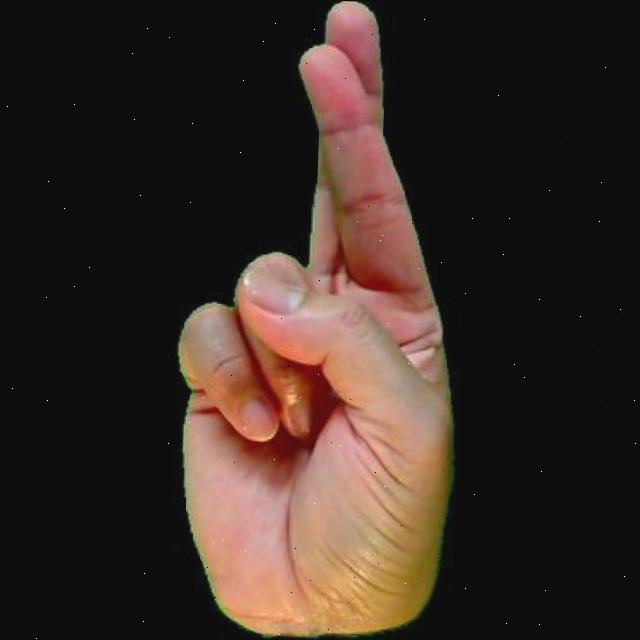r: (153, 0, 470, 640)
